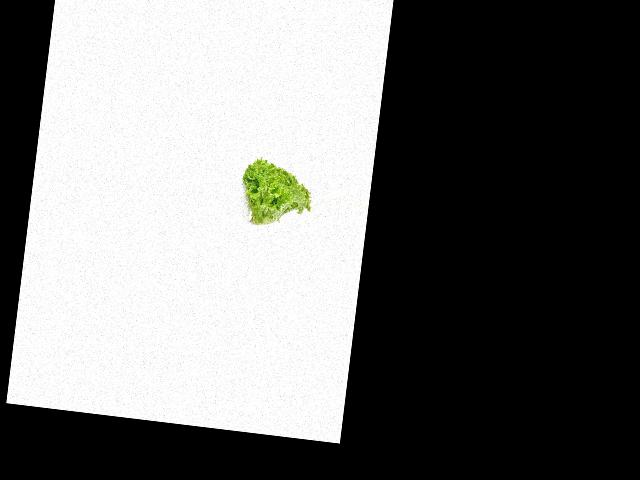lettuce: (236, 151, 319, 236)
